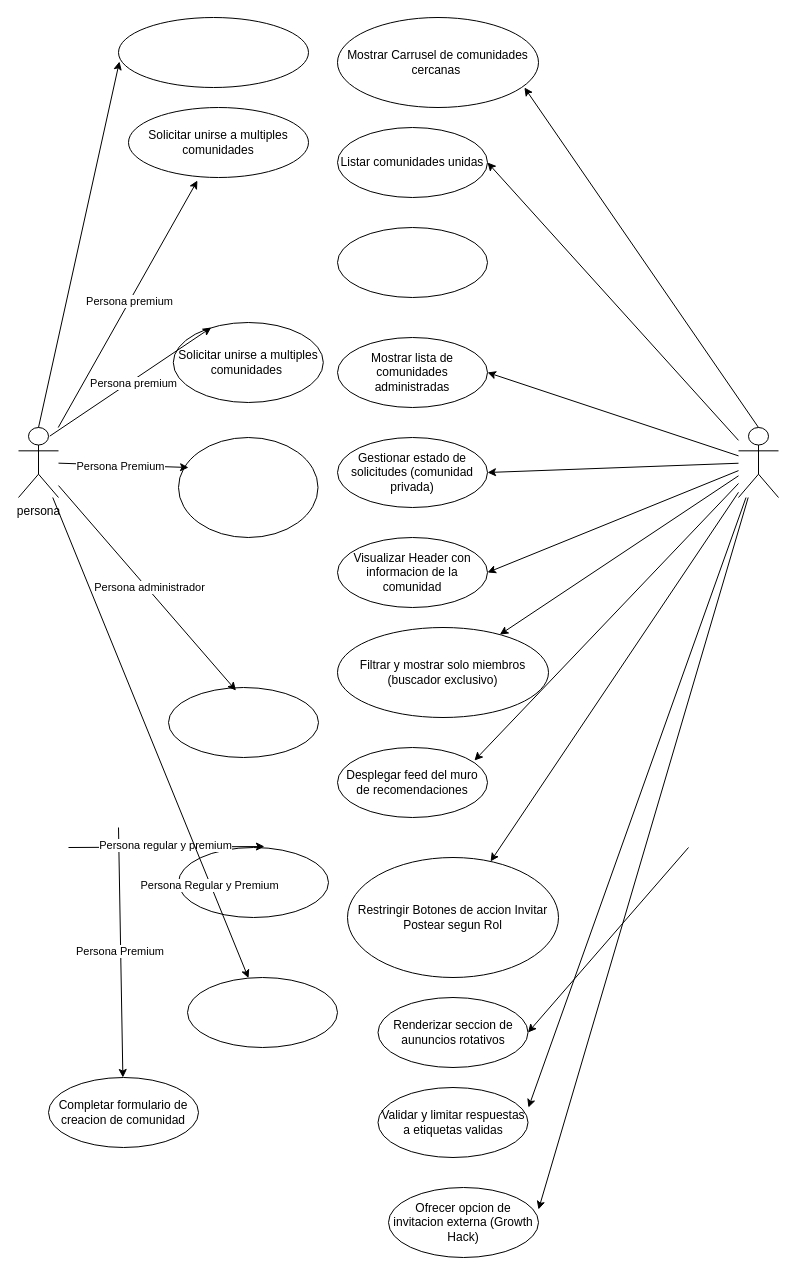
The diagram is 797 pixels wide and 1275 high, and some of its shapes have lost their labels. Each missing label, with the centre of its shape:
Completar formulario de creación de comunidad: point (248, 487)
Gestionar Dashboard de adminsitracion: point (243, 722)
Responder a un post existente: point (262, 1012)
Sistema: point (758, 462)
Solicitar unirse a una comunidad: point (213, 52)
Validar acceso a creacion de comunidad: point (412, 262)
Visualizar muro de recomendaciones: point (253, 882)
